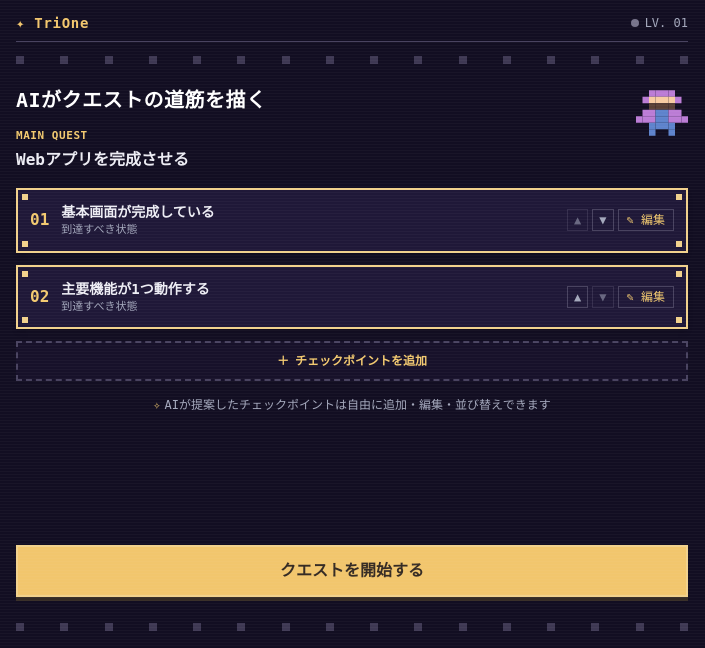
Test: CheckpointGenerationScreen › 「編集」ボタンを押すと編集状態になり、タイトルを変更して「保存」を押すと画面とDBに反映される
Step 1. Click the button "✎ 編集" in the row of "基本画面が完成している" → (646, 220), box [618,209,674,231]
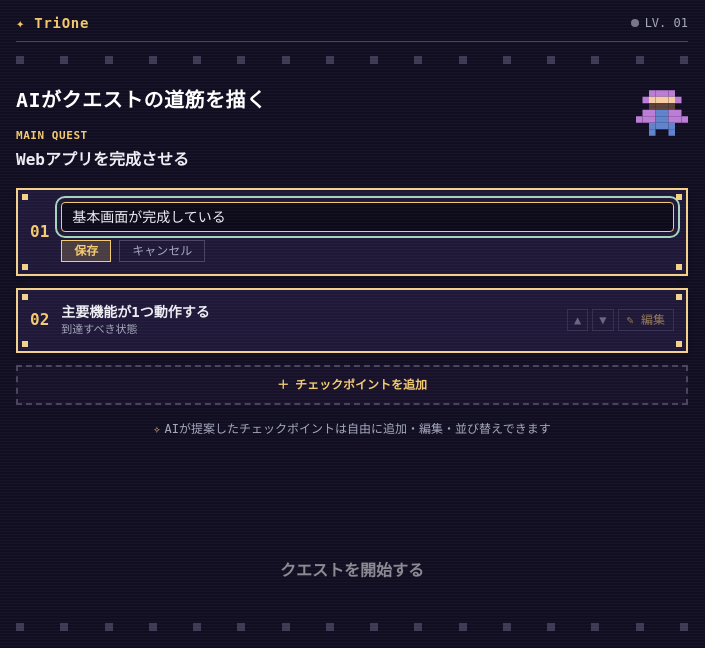
expect the field showing "基本画面が完成している" is shown: met
編集して「保存」ボタンをクリック
Step 2. Replace the text in the field showing "基本画面が完成している" with "UIプロトタイプが完成している" → (368, 217), box [61,202,674,232]
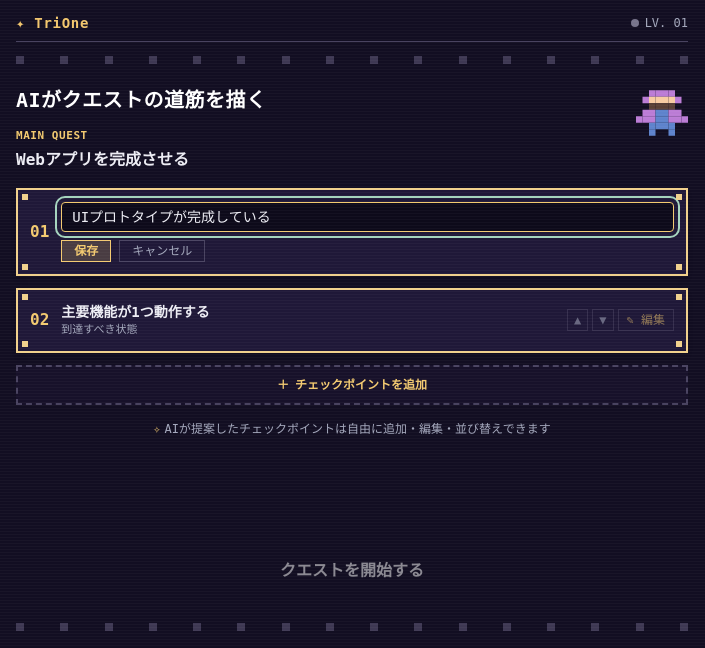
Step 3. Click the button "保存" → (86, 251), box [61,240,111,262]
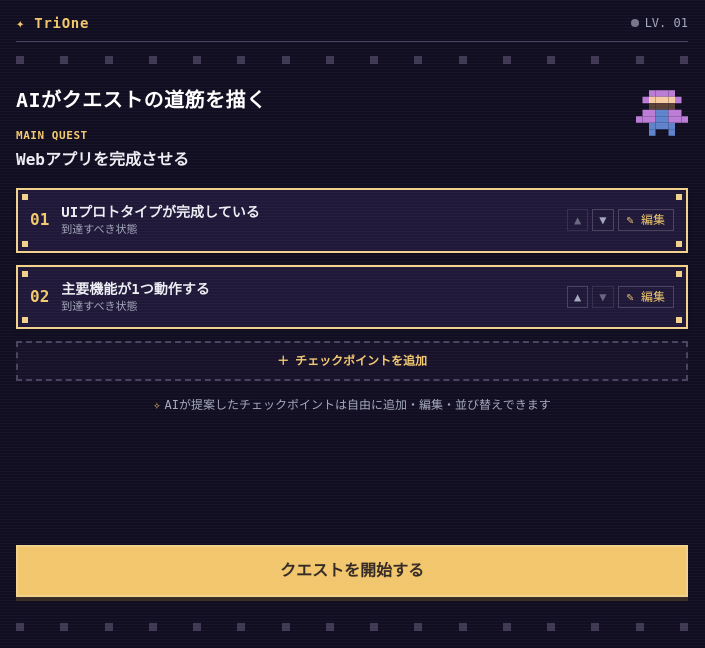
expect the heading "UIプロトタイプが完成している" is shown: met, box [61,204,260,220]
